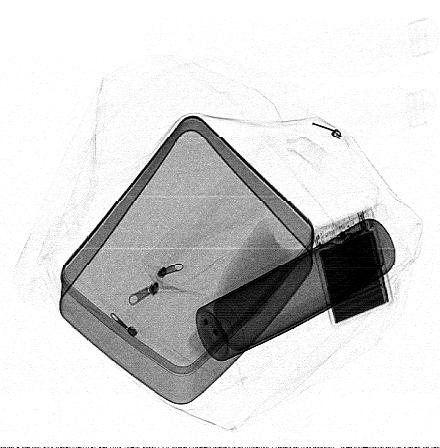Powerbank: (309, 207, 394, 329)
